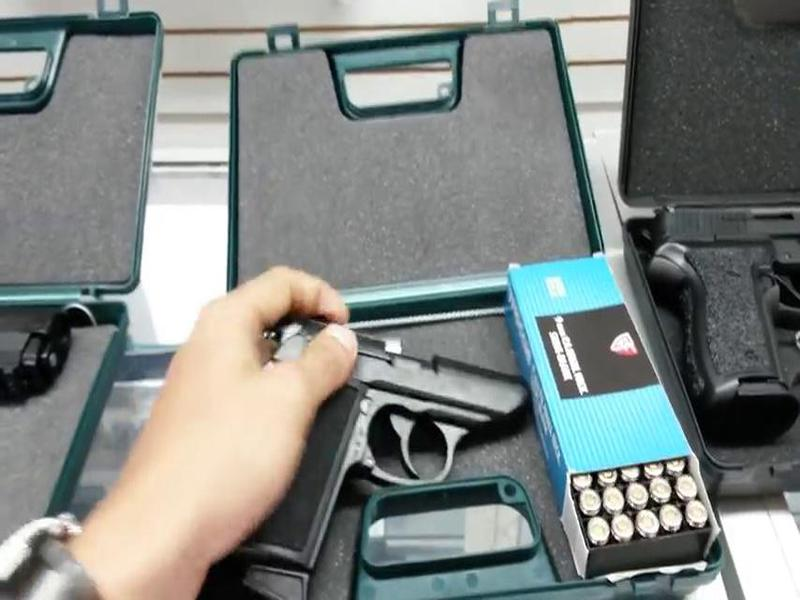Pistola: (199, 317, 560, 594)
